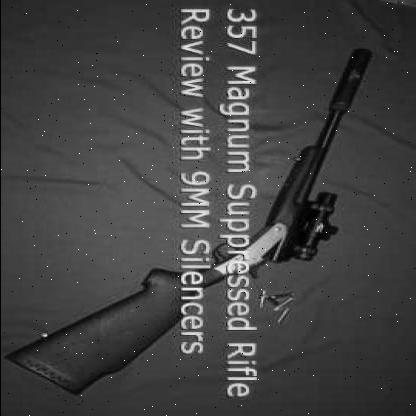rifle: (15, 46, 385, 405)
